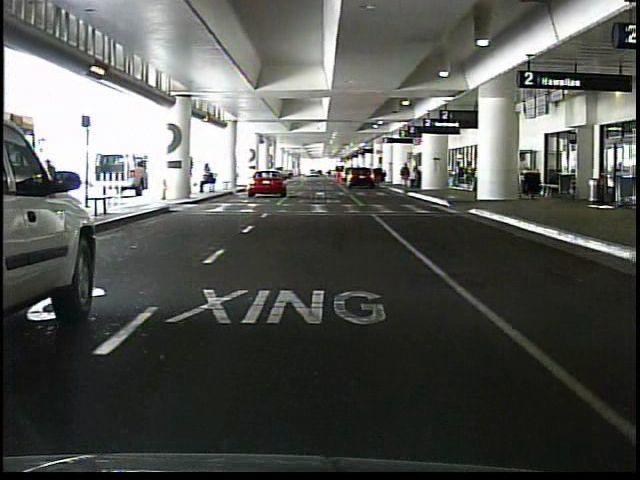person: (47, 160, 68, 206), (201, 166, 220, 195), (401, 162, 414, 192)
